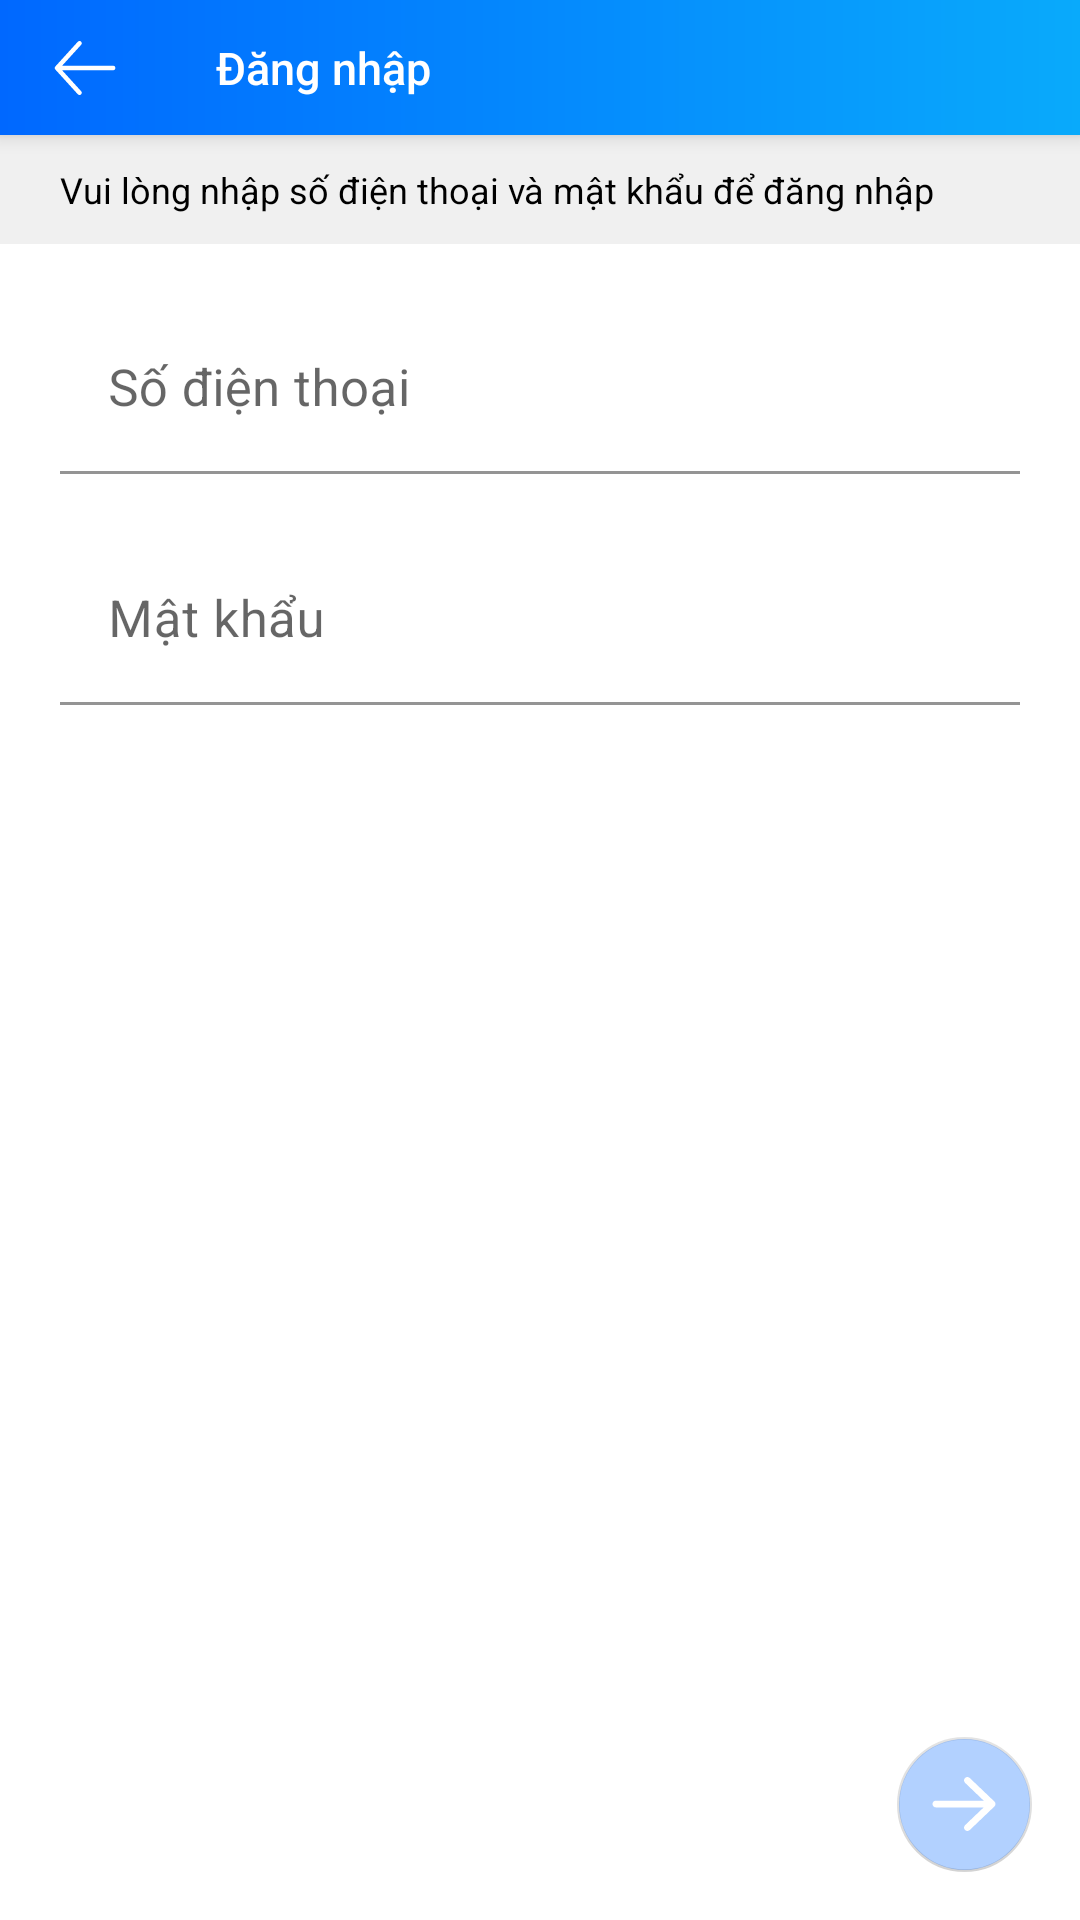

Locate icon controls on the screen. Image size 1080px×1920px, boxes as (x1, y1, x2, y2).
arrow right: (897, 1737, 1032, 1872)
